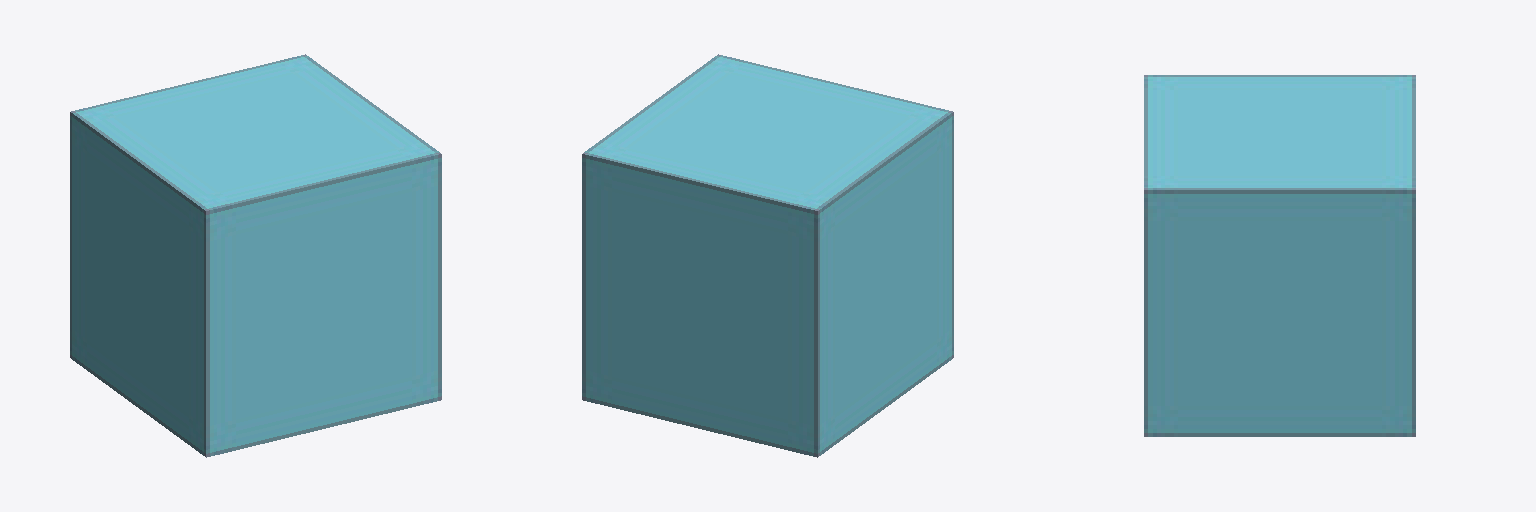
The picture shows the model from 3 angles: view 1: azimuth 30°, elevation 25°; view 2: azimuth 150°, elevation 25°; view 3: azimuth 270°, elevation 25°; orthographic projection.
Visible parts, largest first — view 1: pCube1; view 2: pCube1; view 3: pCube1.
Part boxes in pixels (left/top/right/bottom): pCube1: left=70, top=54, right=441, bottom=457; pCube1: left=582, top=54, right=953, bottom=457; pCube1: left=1144, top=75, right=1415, bottom=436.
Size of the model in its own units: 0.2 by 0.2 by 0.2.
Materials: 1 (1 with a texture image).